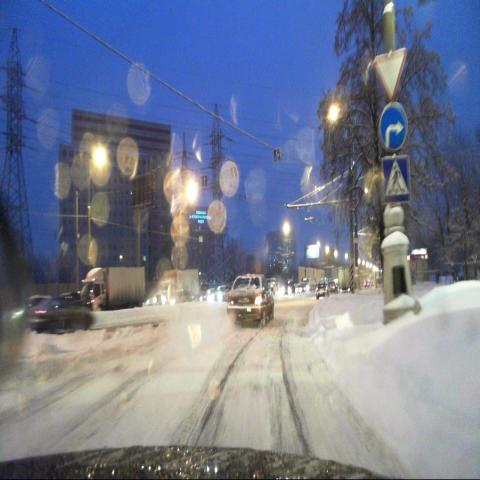4_1_2: (378, 100, 408, 151)
